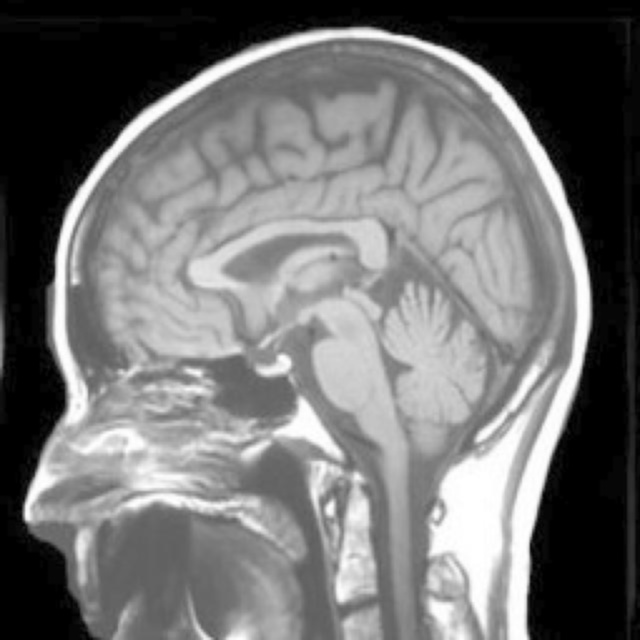glioma tumor: (103, 125, 512, 621)
